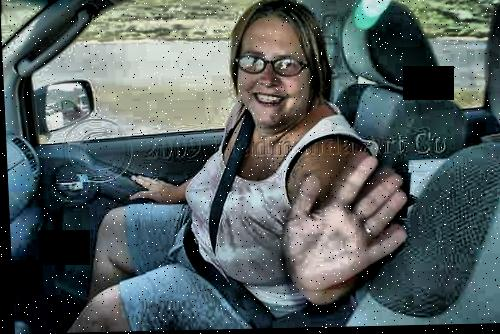seatbelt: (154, 93, 303, 288)
